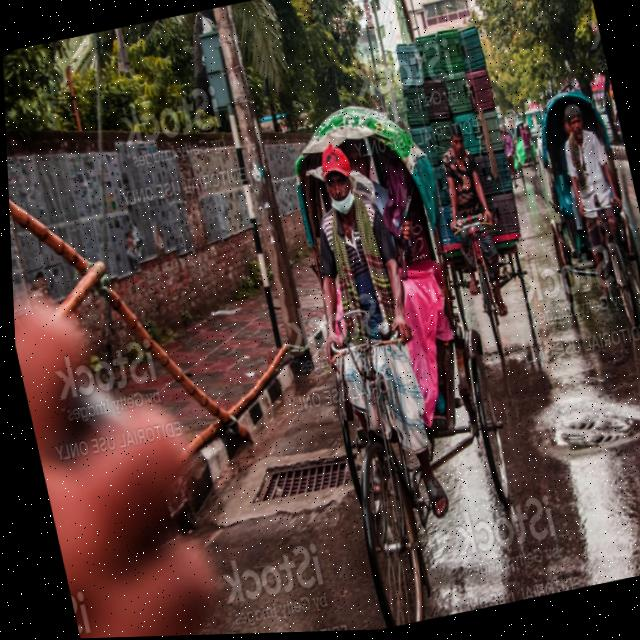rikshaw: (253, 76, 526, 634), (525, 74, 640, 346)
